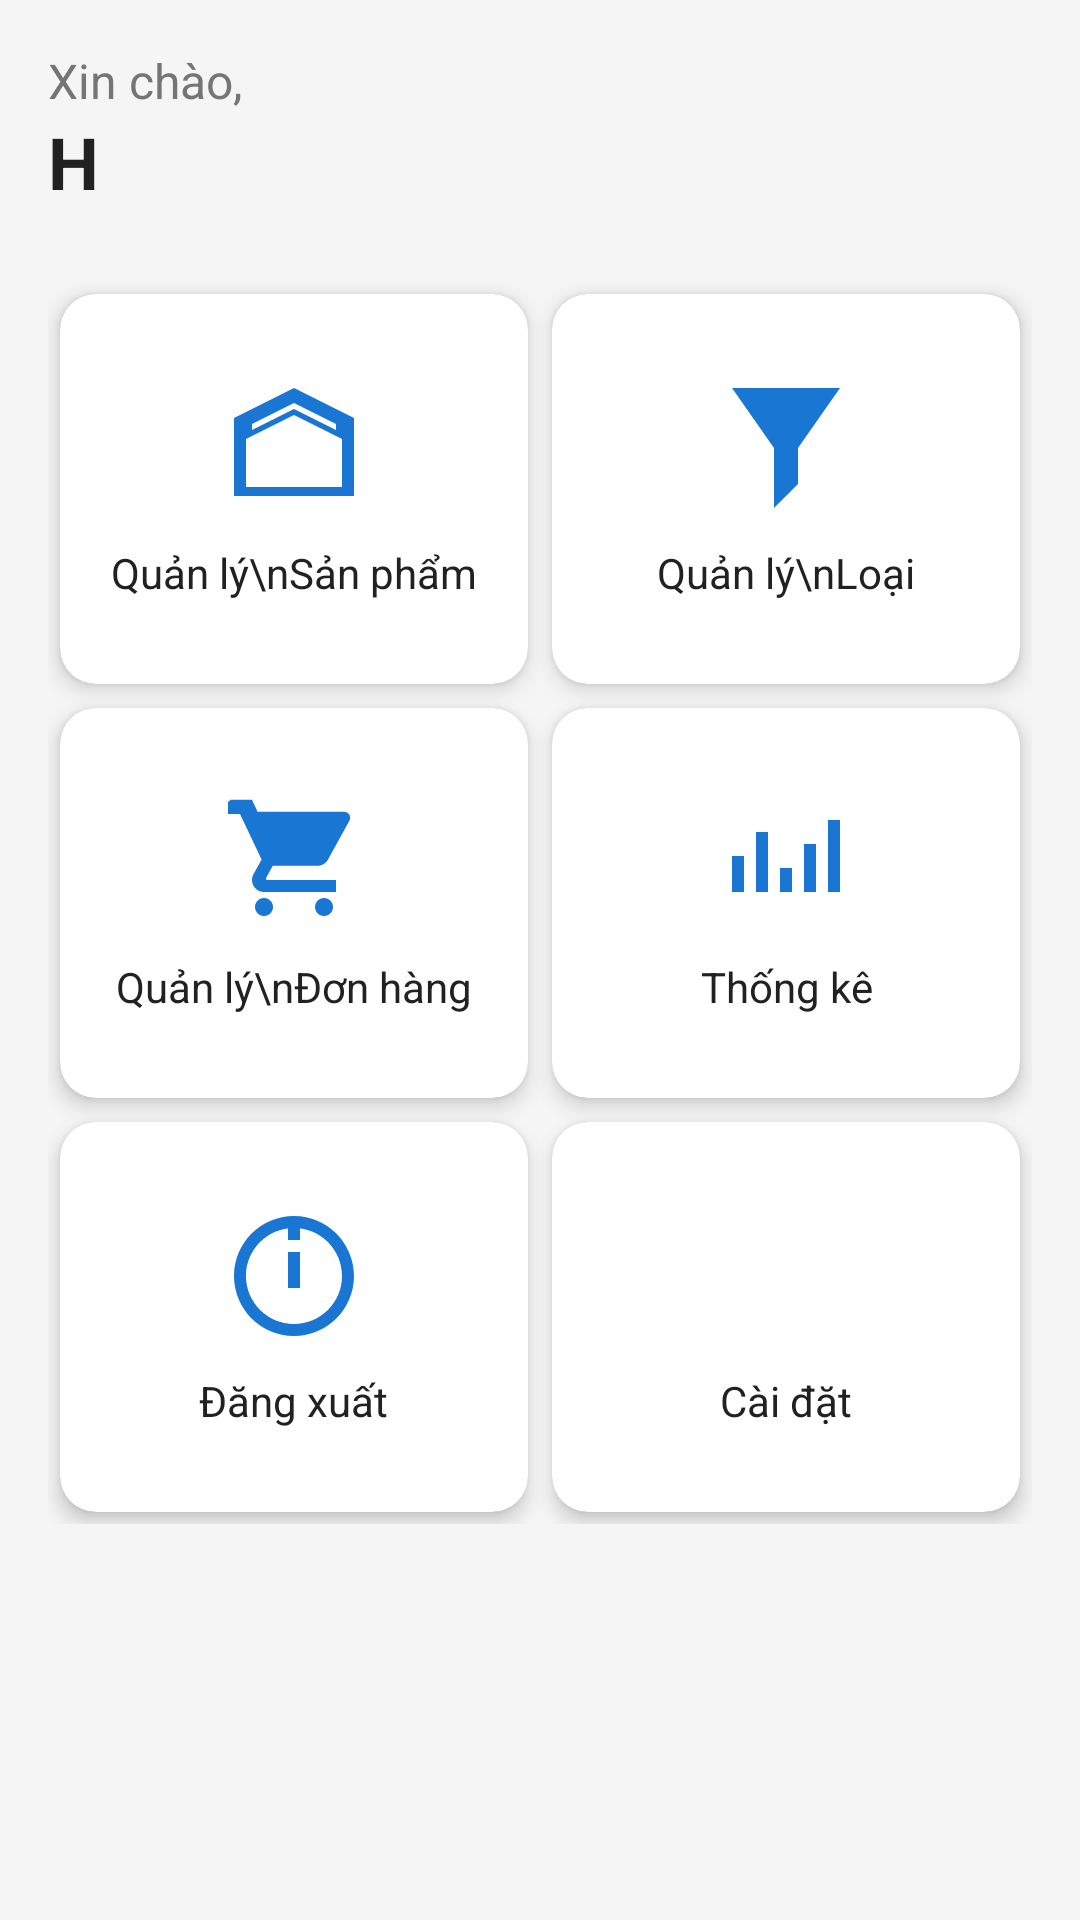

Screen size 1080w x 1920h. Icon name, then its box in pixels as (x1, y1, x2, y2):
orders: (228, 799, 351, 916)
products: (234, 388, 354, 496)
stats: (732, 820, 840, 892)
